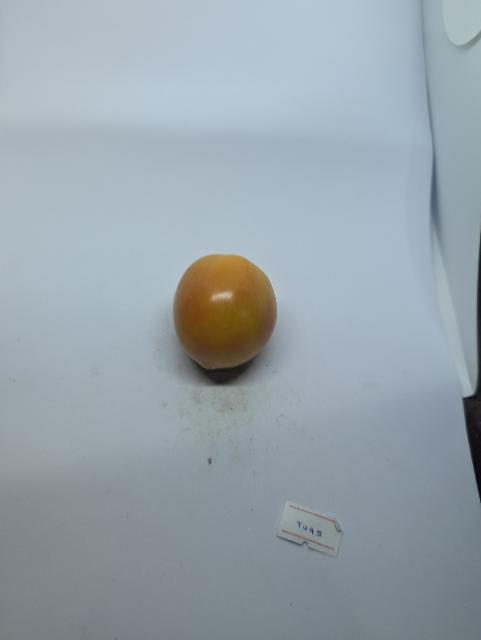turning: (167, 250, 282, 373)
